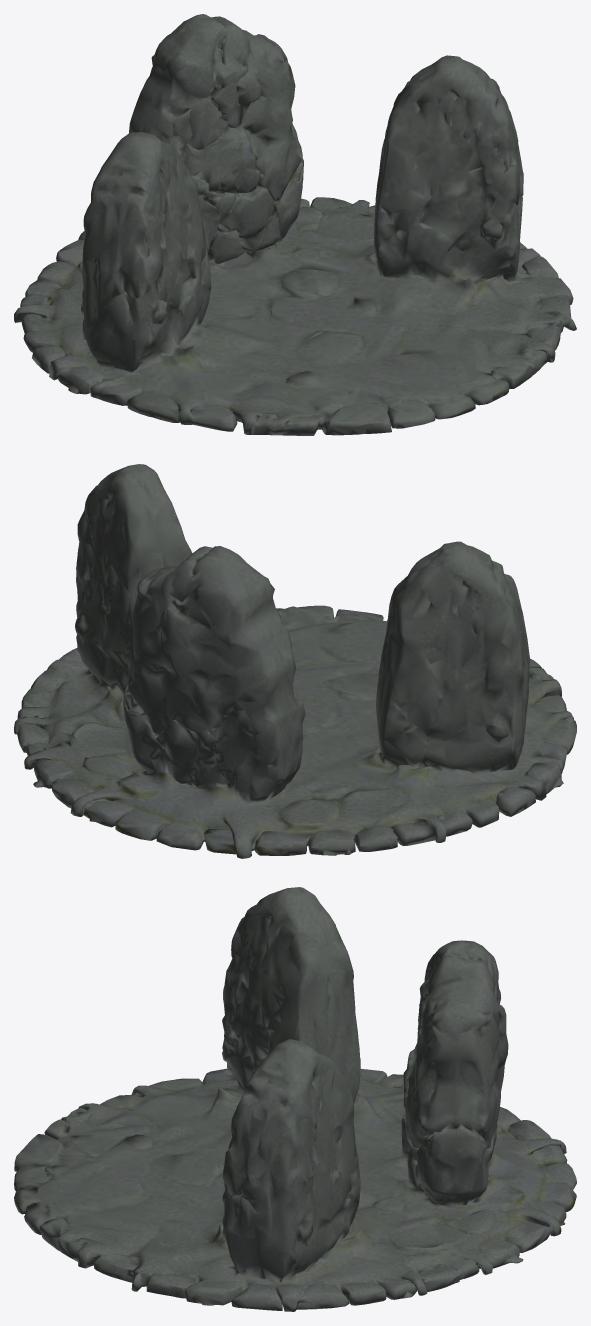
Rendered from stones.glb.
3 views of the same model, one above another, from view 1: azimuth 30°, elevation 25°; view 2: azimuth 150°, elevation 25°; view 3: azimuth 270°, elevation 25° (orthographic). The views are drawn at different scales.
Size of the model in its own units: 1.9 by 0.912 by 1.89.
Materials: 1 (1 with a texture image).
